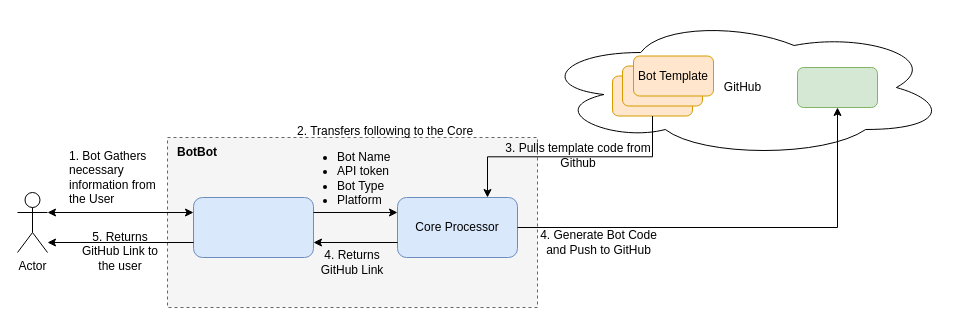
The diagram is 965 pixels wide and 325 high, and some of its shapes have lost their labels. Here are the shapes that lost their labels. From the top down, the box of each, then its label:
(796, 66, 878, 108): New Bot
(192, 196, 314, 258): NLP Processor
